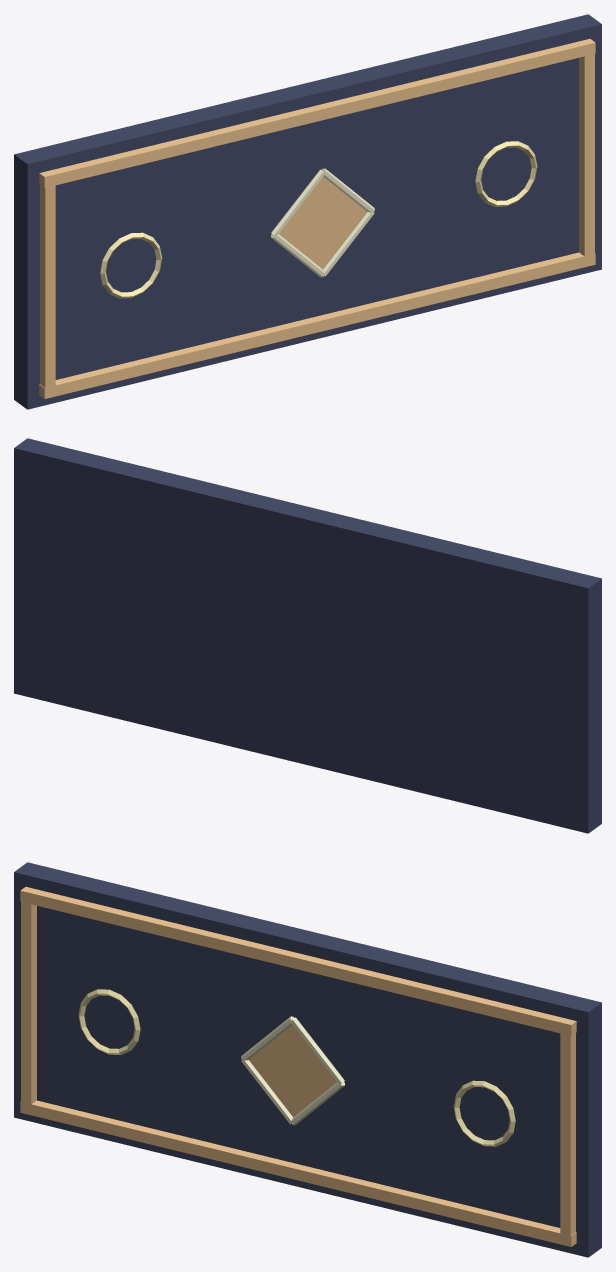
Rendered from letrero_naranja.glb.
The picture shows the model from 3 angles, top to bottom: view 1: azimuth 30°, elevation 25°; view 2: azimuth 150°, elevation 25°; view 3: azimuth 330°, elevation 25°; orthographic projection.
Parts seen in each view (by area): view 1: letrero_naranja; view 2: letrero_naranja; view 3: letrero_naranja.
Boxes of the visible parts, bbox=[...] form: letrero_naranja: bbox=[14, 14, 601, 409]; letrero_naranja: bbox=[14, 438, 601, 833]; letrero_naranja: bbox=[14, 862, 601, 1257].
Bounding box in the file's own units: 4.9 × 2 × 0.3442.
